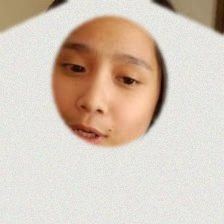Mukena: (0, 1, 221, 224)
